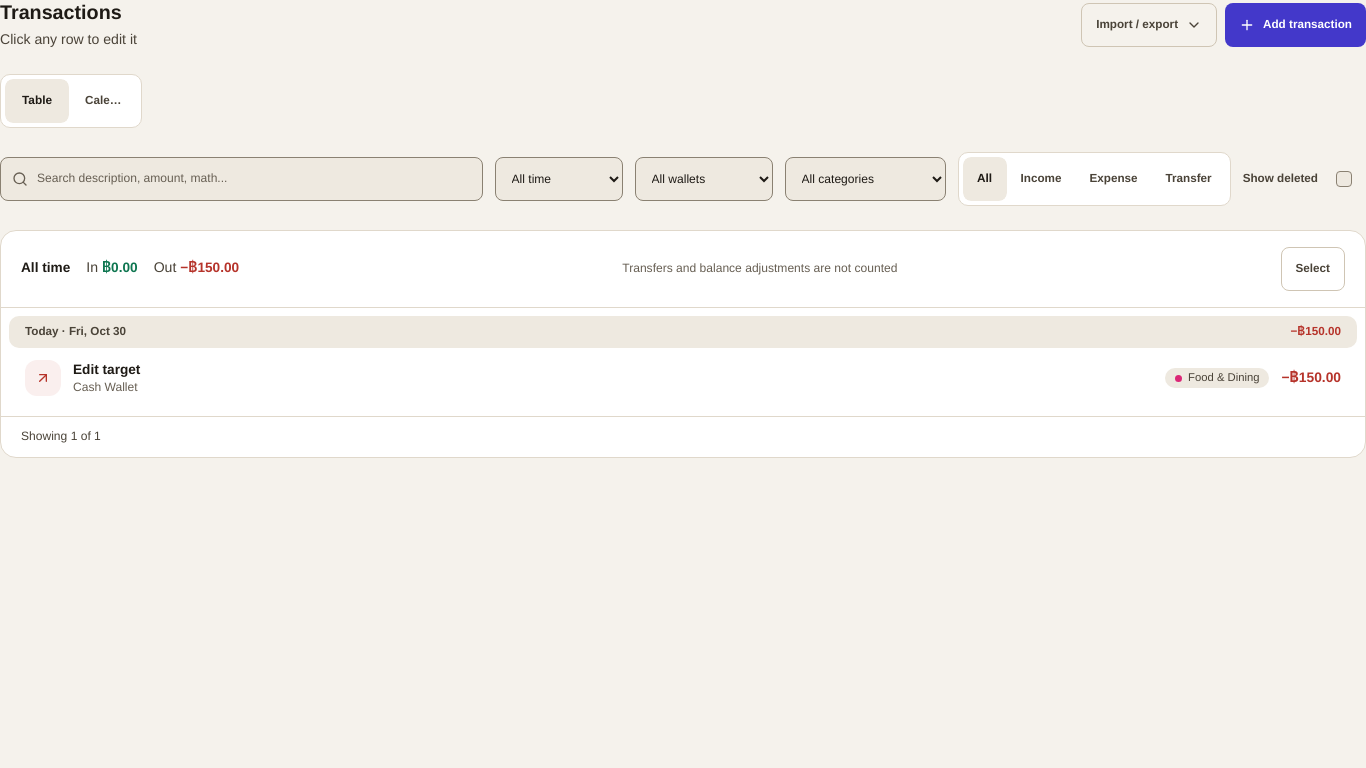
Scenario: the panel edits a live row (Phase 58b, ADR 0033) › keeps Save disabled until something changes, then saves the edit through the ledger
Step 1. Click the button "Edit target Cash Wallet Food & Dining −฿150.00" → [43, 378], box top-left (9, 348), bottom-right (1357, 408)
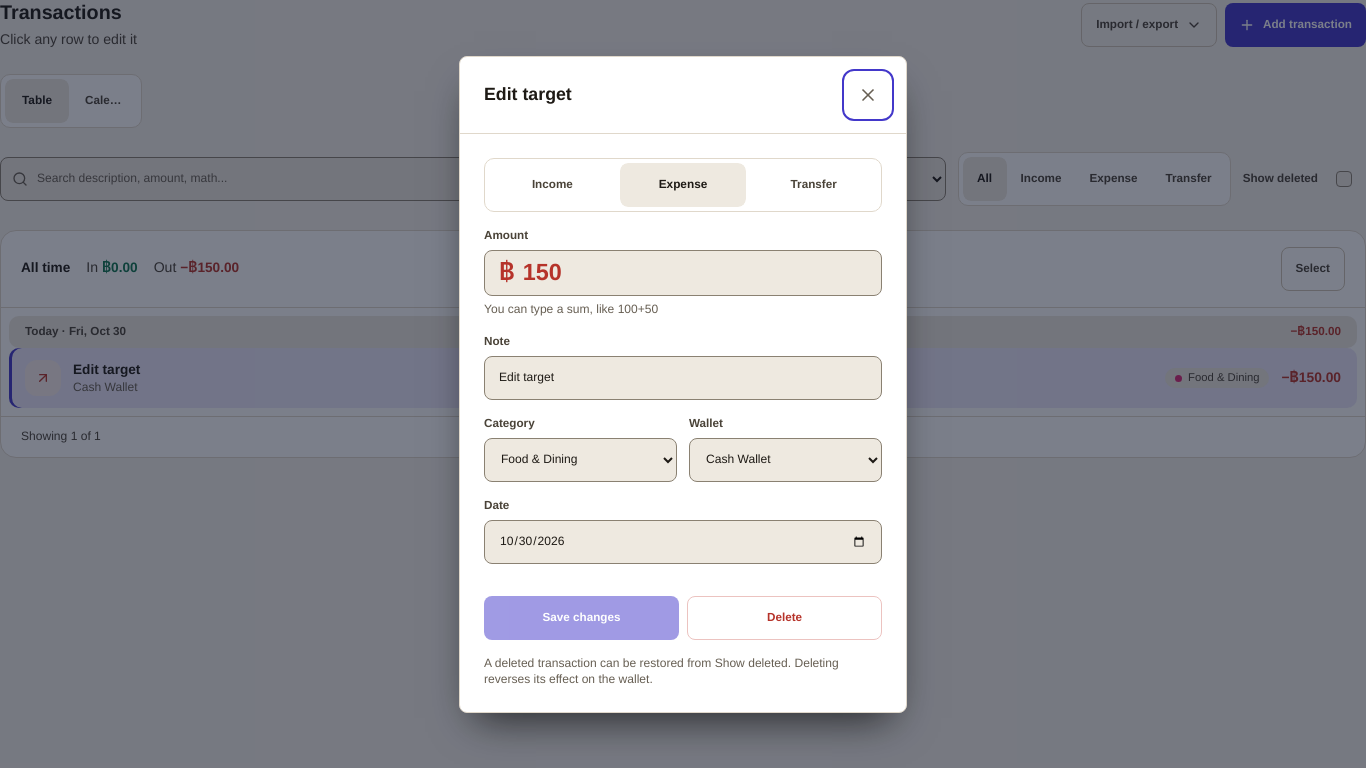
expect the button "Save changes" is disabled: met, box top-left (484, 596), bottom-right (679, 640)
Step 2. Replace the text in the field with id "tx-edit-amount" with "150+25" → [695, 272], box top-left (523, 250), bottom-right (867, 294)
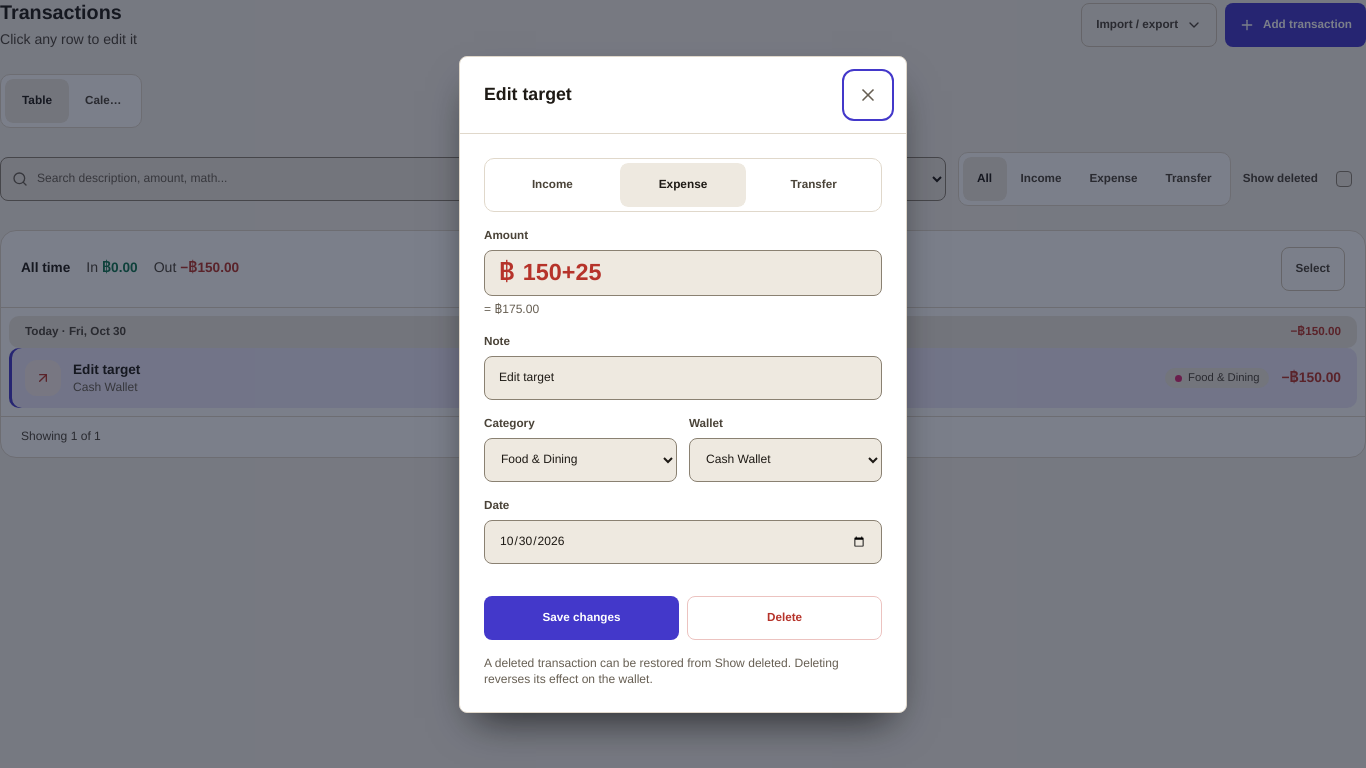
expect the button "Save changes" is enabled: met
Step 3. Click the button "Save changes" → [582, 618], box top-left (484, 596), bottom-right (679, 640)
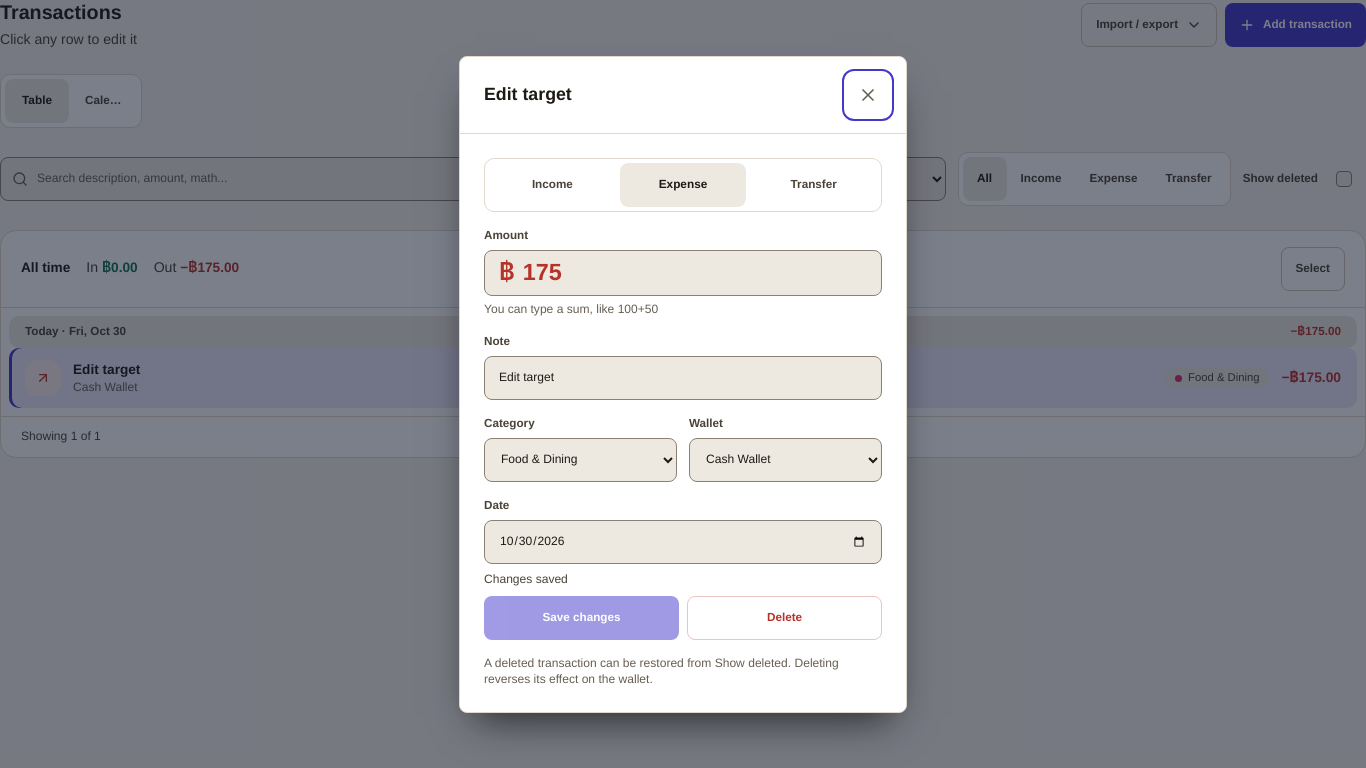
expect the text "Changes saved" is shown: met, box top-left (484, 570), bottom-right (568, 588)
expect the button "Save changes" is disabled: met, box top-left (484, 596), bottom-right (679, 640)
